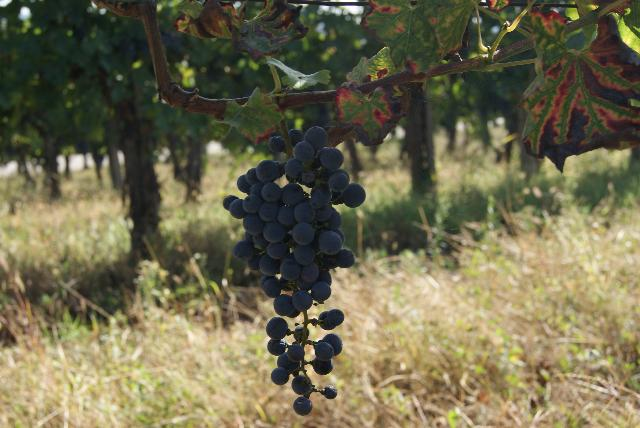grapes: (222, 126, 365, 415)
